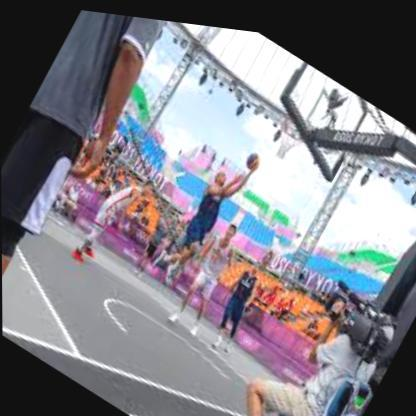basketball: (242, 140, 264, 167)
rim: (278, 111, 307, 140)
